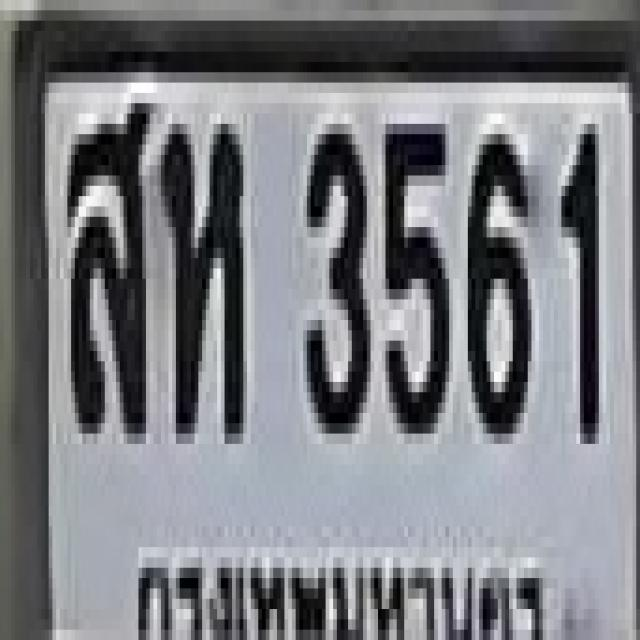1: (558, 114, 595, 434)
3: (303, 114, 367, 423)
5: (382, 114, 445, 423)
6: (464, 124, 528, 423)
A40: (64, 88, 146, 428)
A41: (161, 114, 239, 434)
